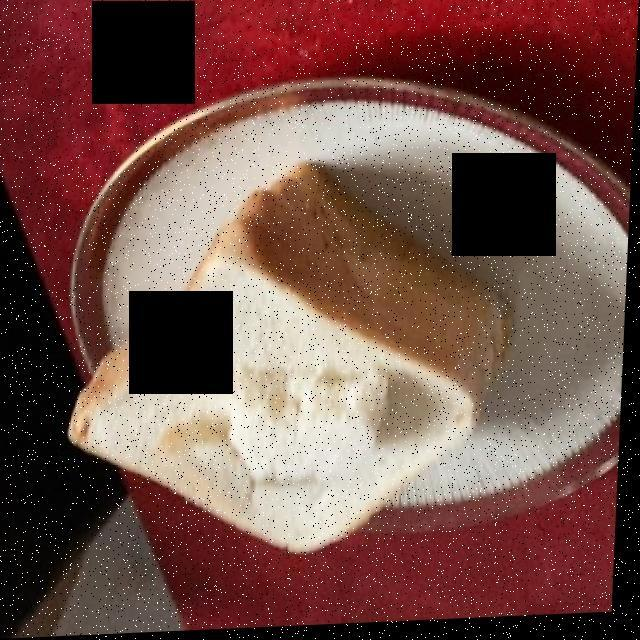bread: (87, 174, 509, 550)
